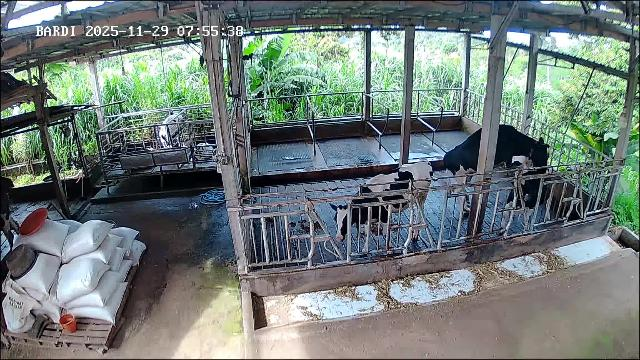mounting: (442, 125, 549, 211)
